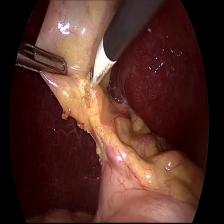Grasper: (14, 44, 74, 74)
Hook: (88, 31, 114, 96)
